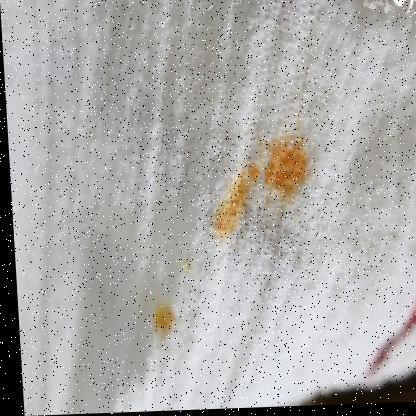kimchi: (261, 138, 319, 201), (211, 165, 259, 238), (150, 301, 184, 343), (178, 257, 196, 274)
